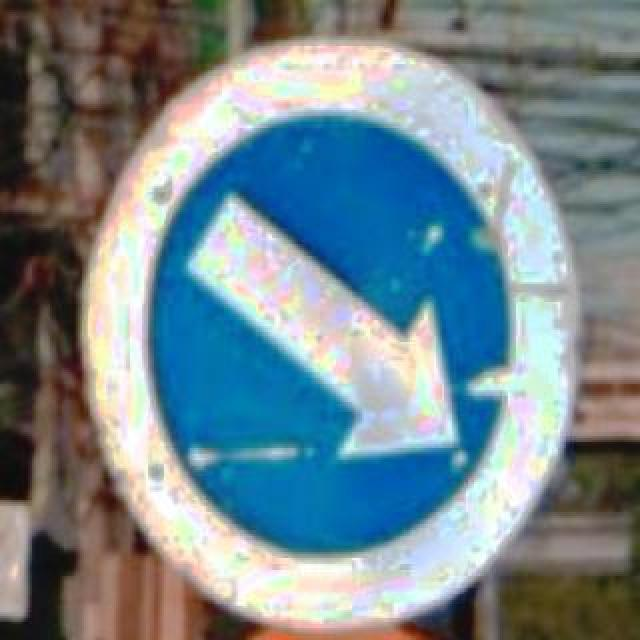keep right: (78, 34, 578, 632)
